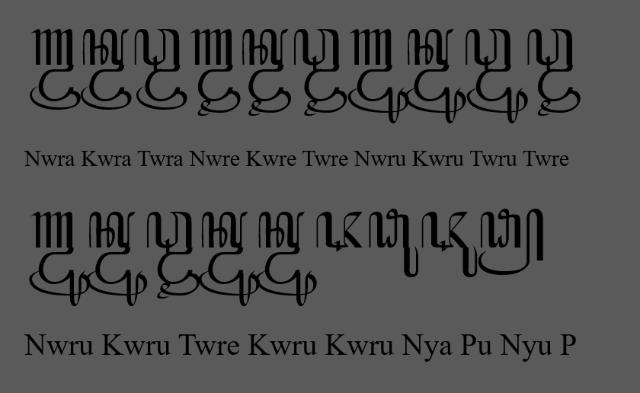-P: (478, 208, 544, 276)
Kwr: (80, 27, 132, 109)
Kwre: (242, 28, 292, 117)
Kwru: (404, 28, 466, 125), (86, 211, 148, 307), (198, 211, 260, 307), (256, 211, 318, 307)
Nwr: (30, 28, 80, 110)
Nwre: (190, 28, 240, 117)
Nwru: (348, 28, 410, 124), (29, 212, 91, 308)
Ny1: (316, 211, 364, 253)
Nyu1: (421, 211, 477, 279)
Pu: (368, 208, 419, 278)
Twr: (134, 27, 188, 110)
Twre: (293, 27, 347, 117), (527, 27, 581, 117), (146, 210, 200, 300)
Twru: (465, 28, 529, 124)
